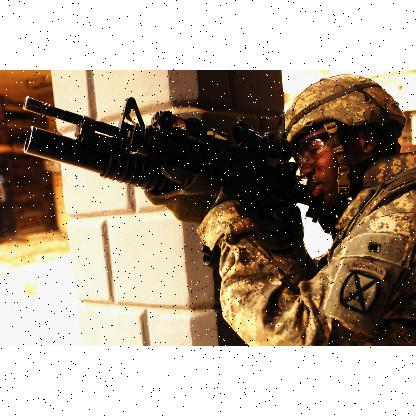gun: (24, 95, 348, 239)
